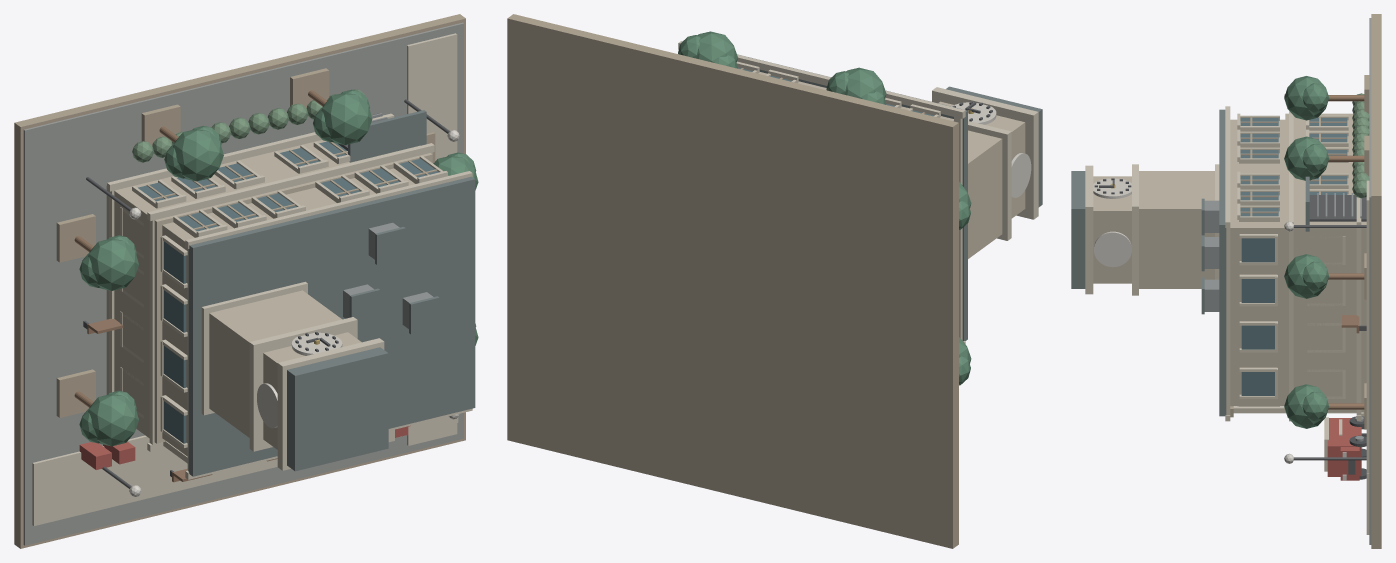
The model's file is post-office.glb.
The picture shows the model from 3 angles, left to right: view 1: azimuth 30°, elevation 25°; view 2: azimuth 150°, elevation 25°; view 3: azimuth 270°, elevation 25°; orthographic projection. The views are drawn at different scales.
Visible parts, largest first — view 1: 0001_paving, 0006_roof, 0004_post office ground, 0261_tower roof, 0000_square foundation, 0002_front sidewalk, 0256_clock tower shaft, 0003_side sidewalk, 0005_post office upper, 0012_continuous cornice, 0258_tower band, 0296_loading awning (+26 smaller); view 2: 0000_square foundation, 0256_clock tower shaft, 0260_tower crown, 0016_continuous cornice, 0258_tower band, 0006_roof, 0259_tower clock room, 0353_tree canopy, 0358_tree canopy, 0261_tower roof, 0294_side clock dial, 0017_side cornice; view 3: 0004_post office ground, 0256_clock tower shaft, 0005_post office upper, 0000_square foundation, 0259_tower clock room, 0006_roof, 0261_tower roof, 0001_paving, 0297_loading door, 0003_side sidewalk, 0310_mail van body, 0260_tower crown (+25 smaller).
Boxes of the visible parts, x1,y1,x2,y2 form: 0001_paving: (23, 22, 463, 545); 0006_roof: (188, 176, 475, 476); 0004_post office ground: (106, 140, 432, 443); 0261_tower roof: (287, 347, 388, 471); 0000_square foundation: (14, 14, 465, 548); 0002_front sidewalk: (32, 416, 458, 525); 0256_clock tower shaft: (209, 290, 341, 437); 0003_side sidewalk: (407, 33, 457, 445); 0005_post office upper: (162, 168, 448, 456); 0012_continuous cornice: (147, 143, 434, 220); 0258_tower band: (249, 317, 357, 451); 0296_loading awning: (348, 110, 426, 162); 0000_square foundation: (507, 14, 958, 548); 0256_clock tower shaft: (968, 130, 1002, 258); 0260_tower crown: (932, 87, 1038, 219); 0016_continuous cornice: (678, 41, 965, 118); 0258_tower band: (968, 121, 1011, 240); 0006_roof: (737, 54, 967, 341); 0259_tower clock room: (938, 101, 1025, 218); 0353_tree canopy: (844, 67, 886, 98); 0358_tree canopy: (696, 31, 737, 62); 0261_tower roof: (946, 86, 1042, 207); 0294_side clock dial: (1011, 153, 1031, 197); 0017_side cornice: (954, 115, 962, 340); 0004_post office ground: (1285, 113, 1366, 411); 0256_clock tower shaft: (1139, 171, 1214, 288); 0005_post office upper: (1230, 119, 1285, 406); 0000_square foundation: (1371, 14, 1381, 548); 0259_tower clock room: (1093, 176, 1131, 283); 0006_roof: (1219, 109, 1226, 416); 0261_tower roof: (1071, 171, 1085, 288); 0001_paving: (1369, 18, 1371, 544); 0297_loading door: (1309, 195, 1366, 221); 0003_side sidewalk: (1366, 180, 1369, 534); 0310_mail van body: (1327, 418, 1361, 476); 0260_tower crown: (1085, 165, 1093, 294).
Bounding box in the file's own units: 21 × 19 × 15.12.
